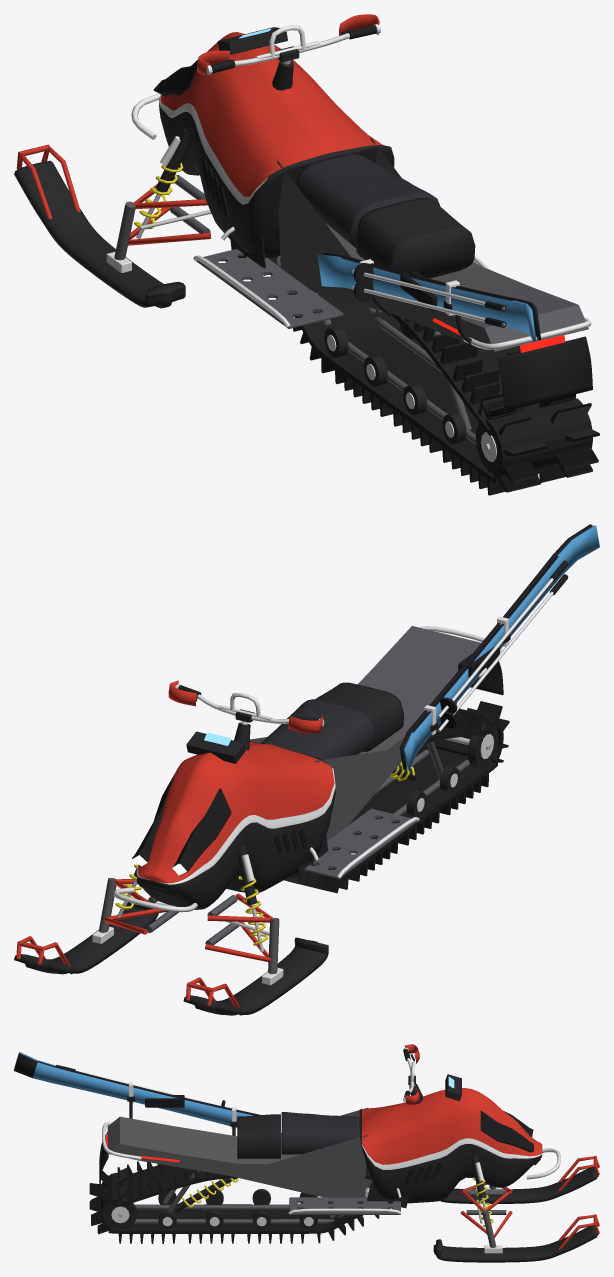
The model's file is sled.glb.
The picture shows the model from 3 angles, top to bottom: view 1: azimuth 30°, elevation 25°; view 2: azimuth 150°, elevation 25°; view 3: azimuth 270°, elevation 25°; orthographic projection. The views are drawn at different scales.
Visible parts, largest first — view 1: sled_body, sled_track, sled_lugs, sled_ski_l, sled_rack, sled_bars; view 2: sled_body, sled_track, sled_rack, sled_ski_l, sled_ski_r, sled_lugs, sled_bars; view 3: sled_body, sled_track, sled_rack, sled_ski_r, sled_lugs, sled_ski_l, sled_bars.
Part boxes in pixels (x1,y1,x2,y2): sled_body: [128, 27, 592, 411]; sled_track: [268, 228, 592, 483]; sled_lugs: [264, 275, 599, 495]; sled_ski_l: [14, 144, 185, 308]; sled_rack: [317, 253, 541, 341]; sled_bars: [197, 14, 380, 90]; sled_body: [104, 626, 510, 962]; sled_track: [314, 719, 503, 877]; sled_rack: [399, 524, 599, 770]; sled_ski_l: [183, 918, 328, 1015]; sled_ski_r: [14, 878, 158, 974]; sled_lugs: [284, 701, 509, 893]; sled_bars: [168, 680, 324, 750]; sled_body: [99, 1074, 560, 1237]; sled_track: [100, 1164, 372, 1233]; sled_rack: [14, 1052, 260, 1128]; sled_ski_r: [433, 1210, 599, 1262]; sled_lugs: [89, 1161, 389, 1243]; sled_ski_l: [440, 1155, 599, 1203]; sled_bars: [403, 1044, 423, 1104].
Bounding box in the file's own units: 1.08 × 1.22 × 3.85.
